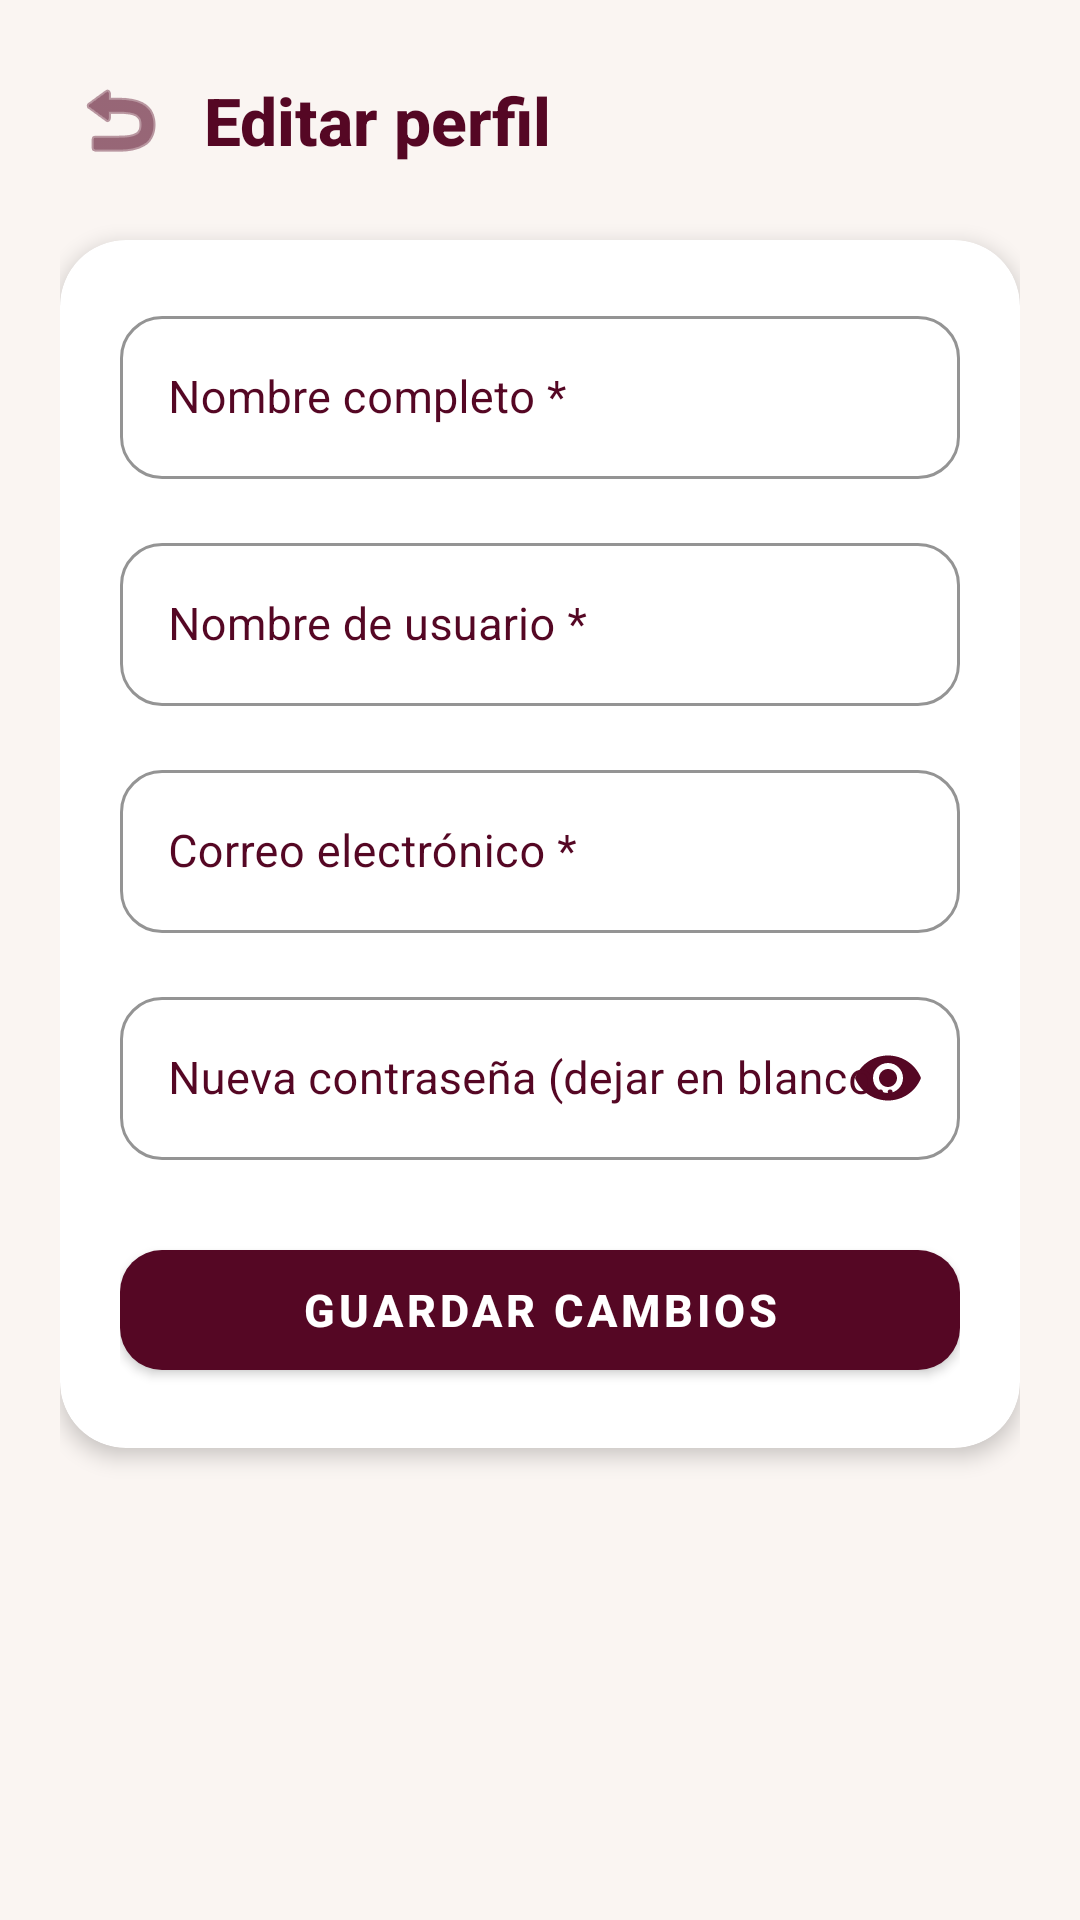

Point at icon controls on the screen. Image size 1080 x 1920, points as point (x, y).
Volver: point (121, 120)
